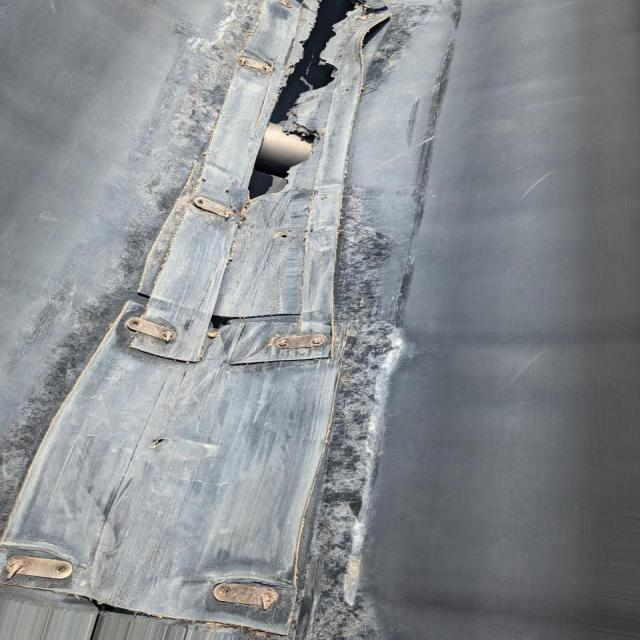Hole: (235, 0, 402, 206)
